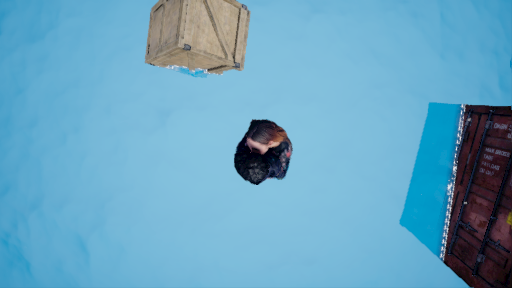person: (226, 119, 297, 185)
